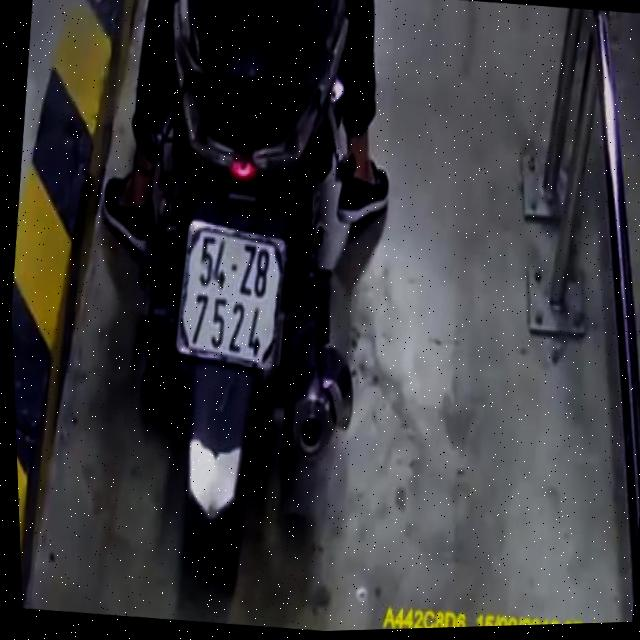motorcycle: (95, 0, 398, 598)
plate: (164, 210, 300, 382)
